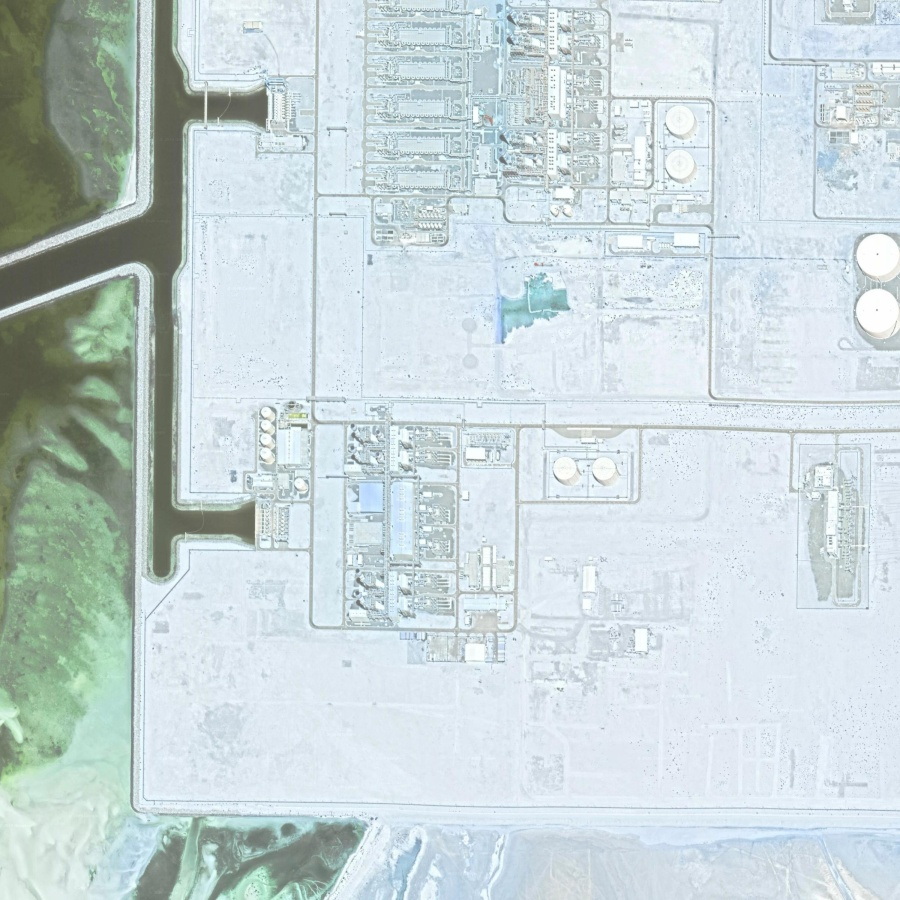PowerPlant: (248, 387, 662, 671)
